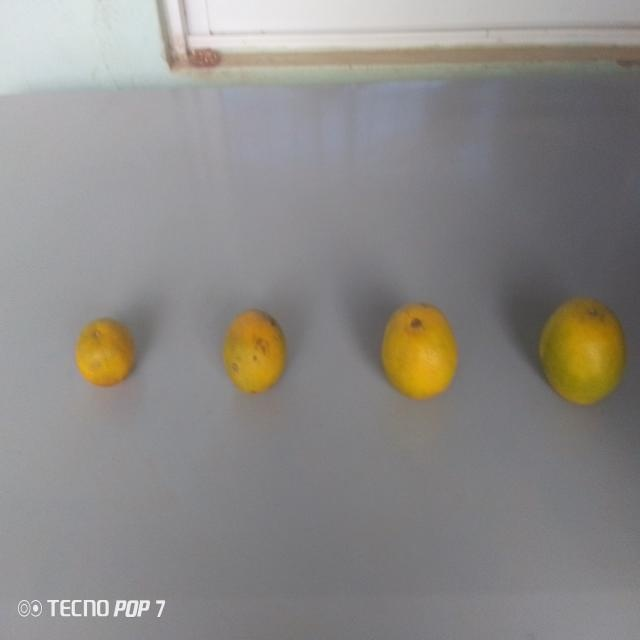agrume: (533, 290, 627, 416), (377, 296, 461, 412), (218, 297, 299, 407), (62, 307, 145, 392)
